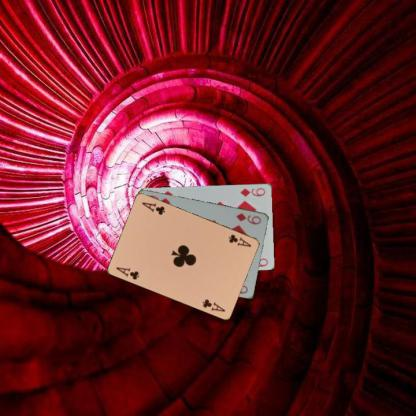9d: (233, 210, 262, 226), (238, 185, 266, 197)
Ac: (114, 264, 141, 281), (226, 232, 252, 248)
